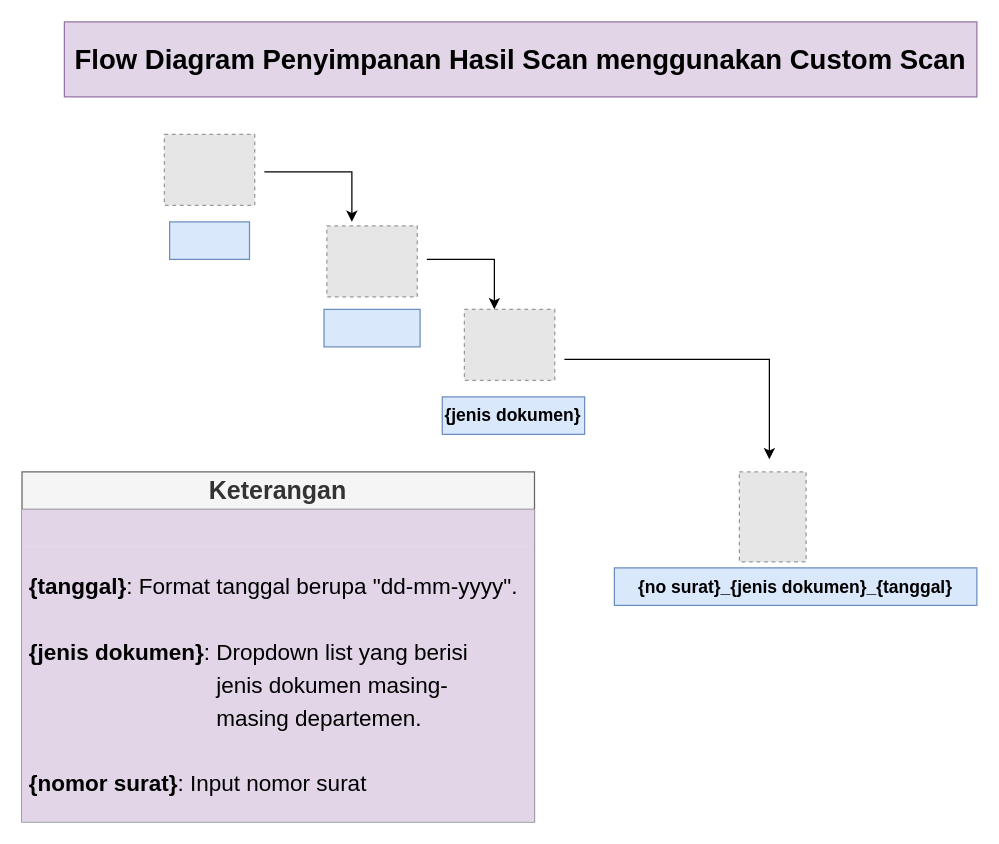
Some shapes in this 999 by 844 pixel diagram are drawn without their labels. Grey dashed boxes stand in for pictures. Each missing label, with the box of its shape:
{dept}: (168, 221, 250, 259)
{dept} : Nama departemen: (21, 509, 534, 546)
{tanggal}: (323, 308, 420, 347)
